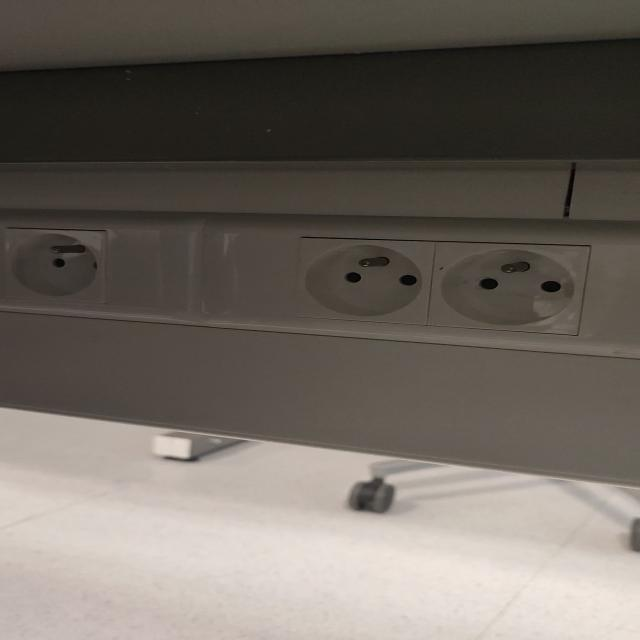house plug: (428, 242, 590, 336), (299, 239, 434, 326), (3, 229, 102, 301)
